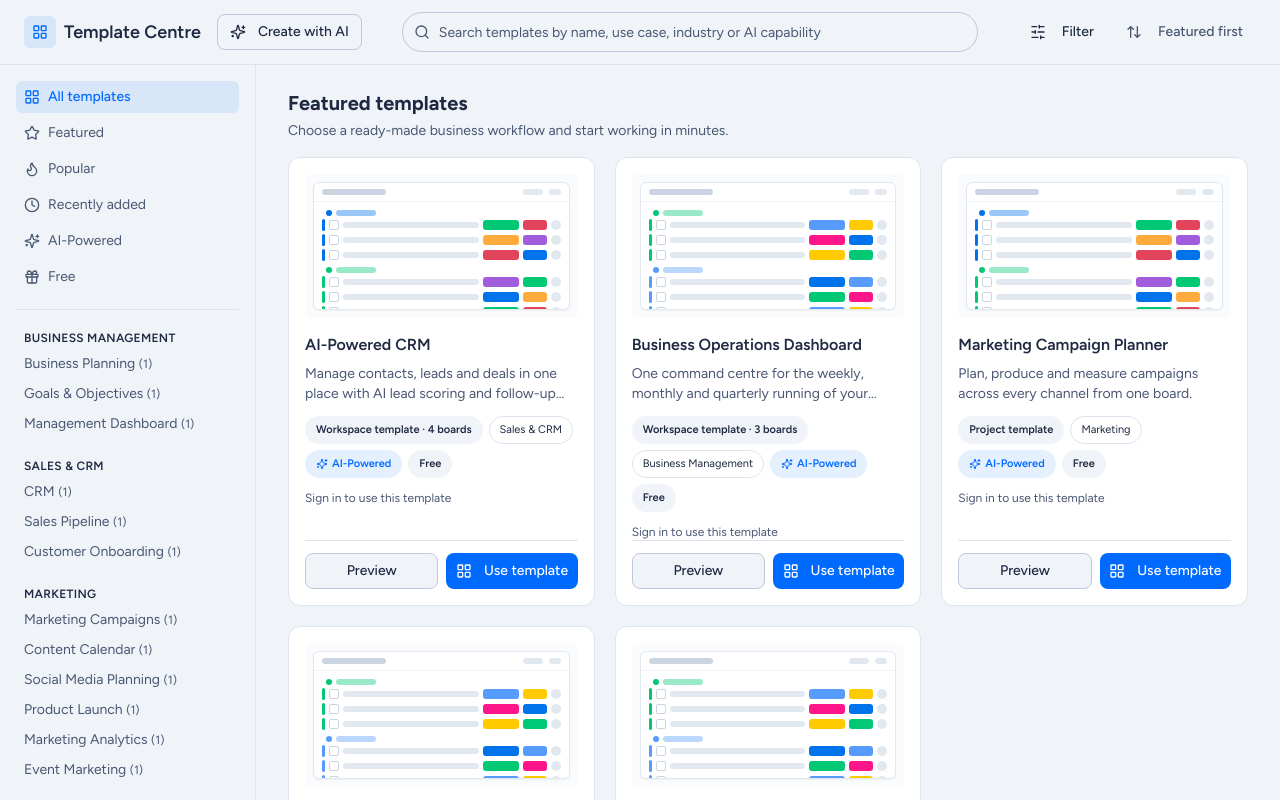
Test case: Template Centre, signed out › "Preview" still opens; inside, "Use template" also goes to sign-in
Step 1. Click the 1st button "Preview" → (372, 571), box [305,553,438,589]
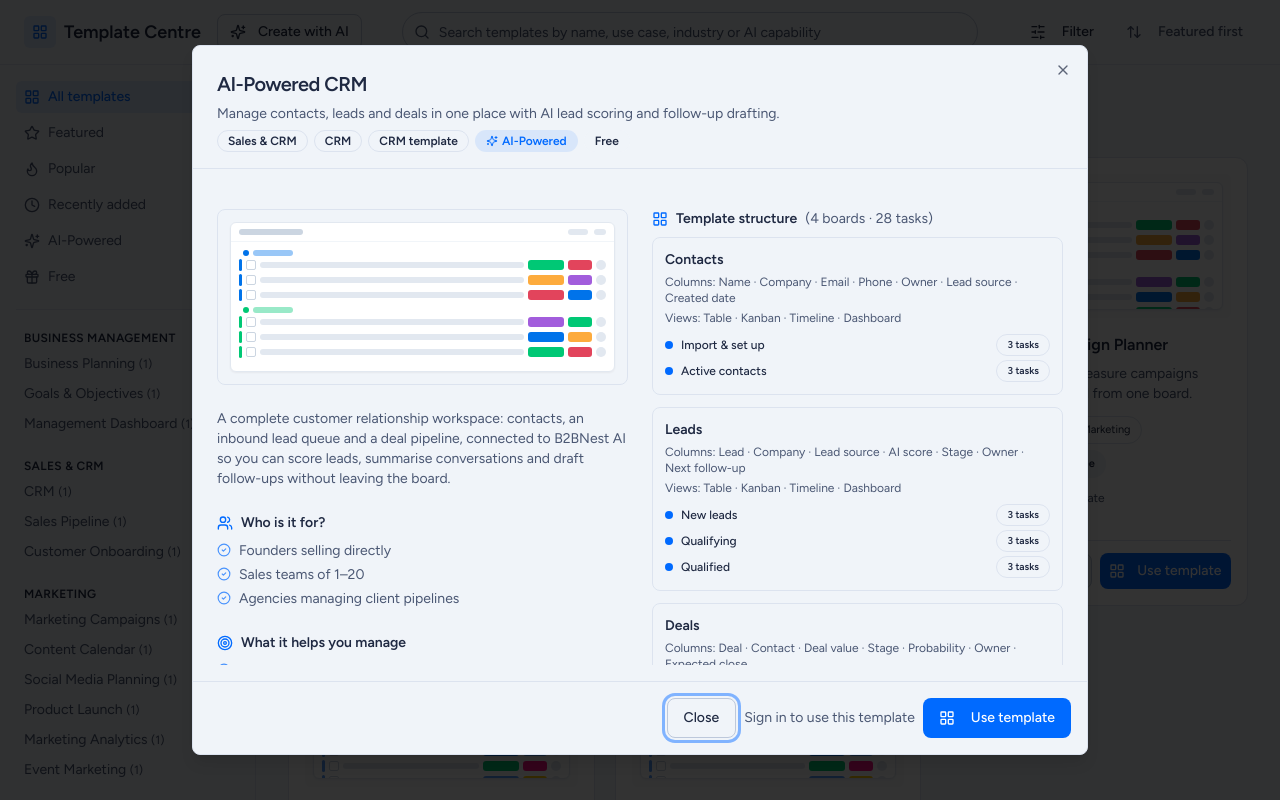
Now the text with test id "template-sign-in-line" reads "Sign in to use this template", box [744,709,915,726]
